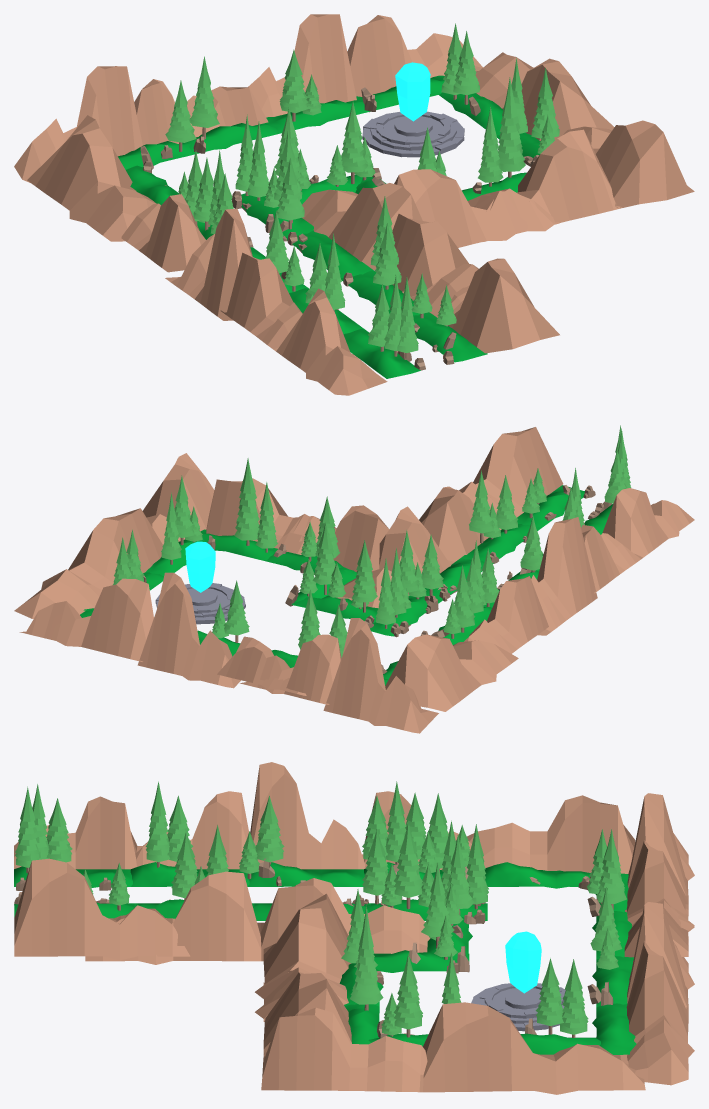
Rendered from gameLevel_noFloor.glb.
3 views of the same model, one above another, from view 1: azimuth 30°, elevation 25°; view 2: azimuth 150°, elevation 25°; view 3: azimuth 270°, elevation 25° (orthographic). The views are drawn at different scales.
Visible parts, largest first — view 1: Object_4, Object_9, Object_5, Object_8, Object_3, Object_6, Object_2; view 2: Object_4, Object_9, Object_5, Object_8, Object_6, Object_3, Object_2; view 3: Object_4, Object_9, Object_5, Object_8, Object_6, Object_3, Object_2, Object_10.
Boxes of the visible parts, bbox=[...] form: Object_4: bbox=[14, 14, 694, 395]; Object_9: bbox=[167, 32, 559, 352]; Object_5: bbox=[118, 75, 539, 378]; Object_8: bbox=[165, 23, 556, 347]; Object_3: bbox=[362, 111, 464, 157]; Object_6: bbox=[140, 87, 538, 370]; Object_2: bbox=[395, 62, 430, 121]; Object_4: bbox=[14, 427, 694, 733]; Object_9: bbox=[113, 433, 631, 654]; Object_5: bbox=[80, 485, 612, 685]; Object_8: bbox=[114, 425, 630, 657]; Object_6: bbox=[143, 485, 611, 673]; Object_3: bbox=[155, 583, 245, 624]; Object_2: bbox=[185, 541, 215, 592]; Object_4: bbox=[14, 762, 694, 1094]; Object_9: bbox=[15, 791, 624, 1035]; Object_5: bbox=[14, 862, 636, 1054]; Object_8: bbox=[17, 781, 626, 1034]; Object_6: bbox=[14, 858, 613, 1038]; Object_3: bbox=[471, 983, 565, 1031]; Object_2: bbox=[505, 931, 541, 993]; Object_10: bbox=[269, 823, 588, 1028].
Bounding box in the file's own units: 18.49 × 4.42 × 20.58.
